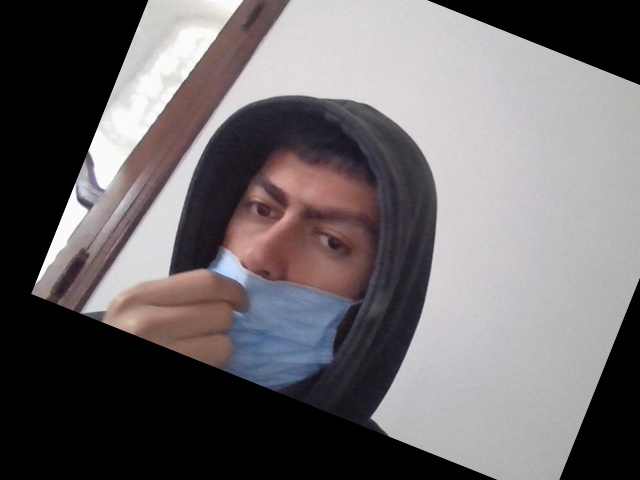mask_weared_incorrect: (191, 139, 384, 399)
